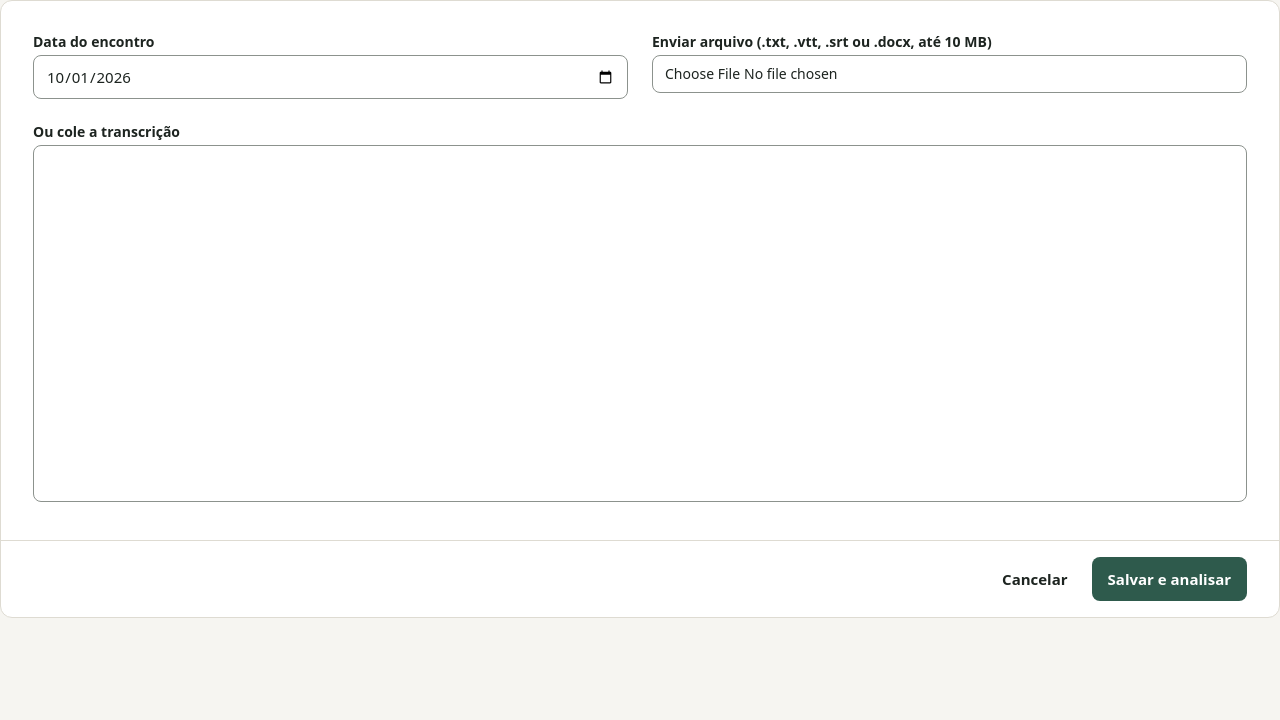
Test: NewSessionForm › deve pedir a transcrição quando nada foi informado
Click the button "Salvar e analisar". click: (1169,579)
box: [1092,557,1247,601]
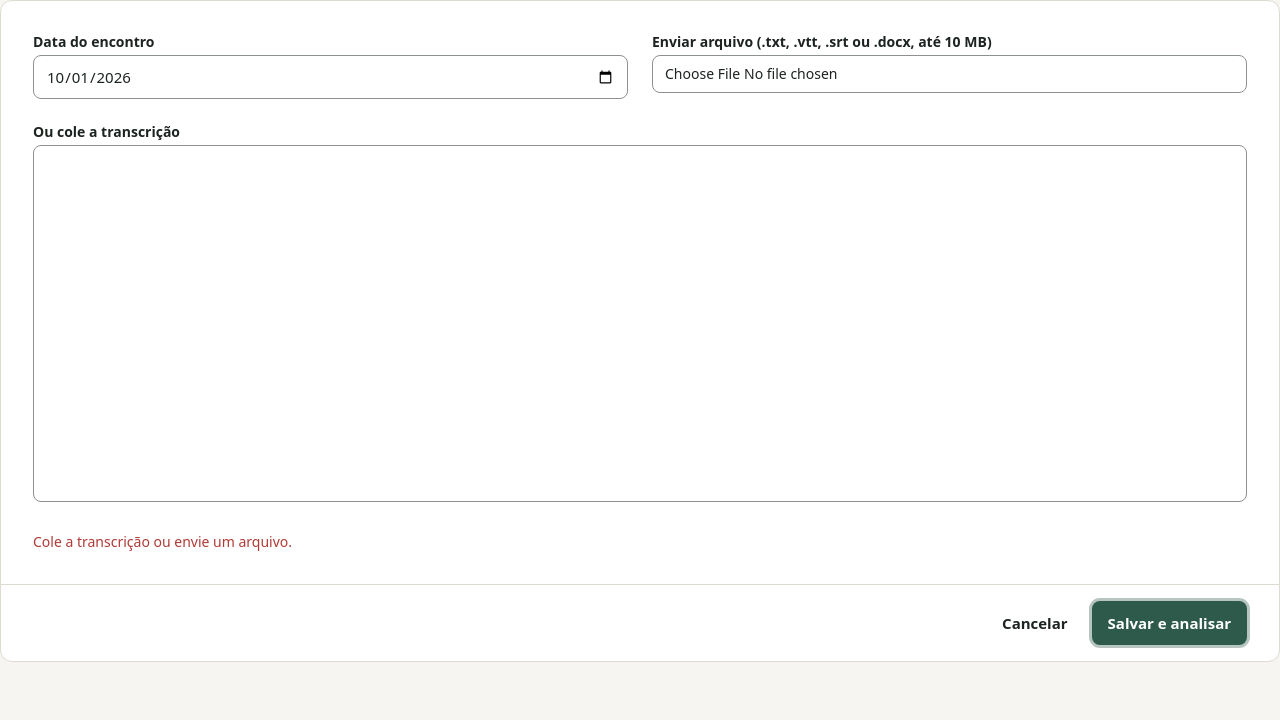
Check: the message shows "Cole a transcrição", box [33,532,292,551]
